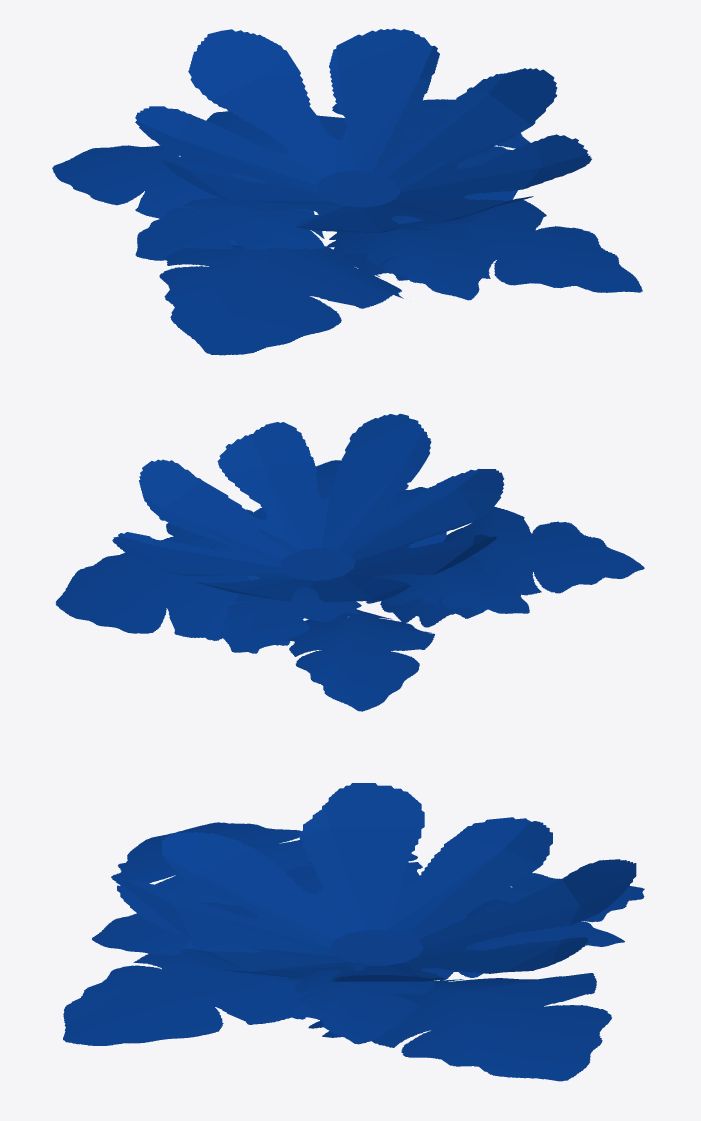
File: SM_FloorFlower2.fbx
3 renders of one model, top to bottom at view 1: azimuth 30°, elevation 25°; view 2: azimuth 150°, elevation 25°; view 3: azimuth 270°, elevation 25°, orthographic. The views are drawn at different scales.
Visible parts, largest first — view 1: Circle004; view 2: Circle004; view 3: Circle004.
Part boxes in pixels (x1,y1,x2,y2): Circle004: (52,28,642,355); Circle004: (55,413,644,711); Circle004: (63,783,644,1081).
Bounding box in the file's own units: 30.04 × 6.49 × 31.36.
